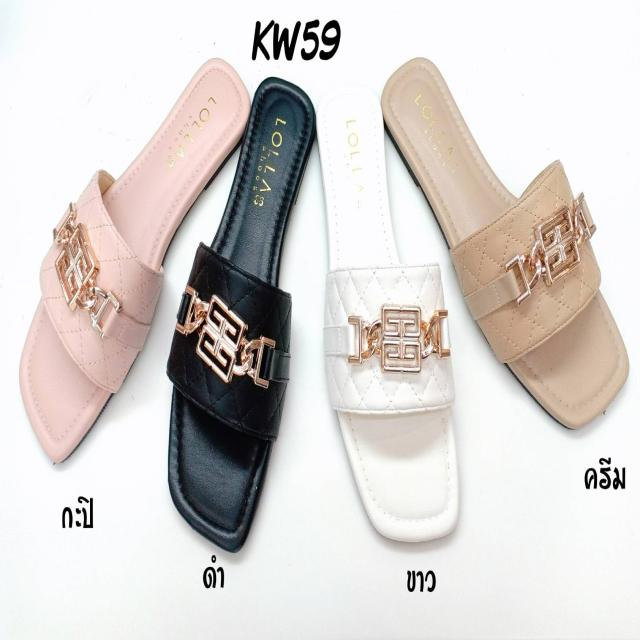black: (165, 78, 313, 543)
cream: (383, 54, 629, 430)
kapi: (18, 58, 247, 455)
white: (316, 85, 458, 542)
